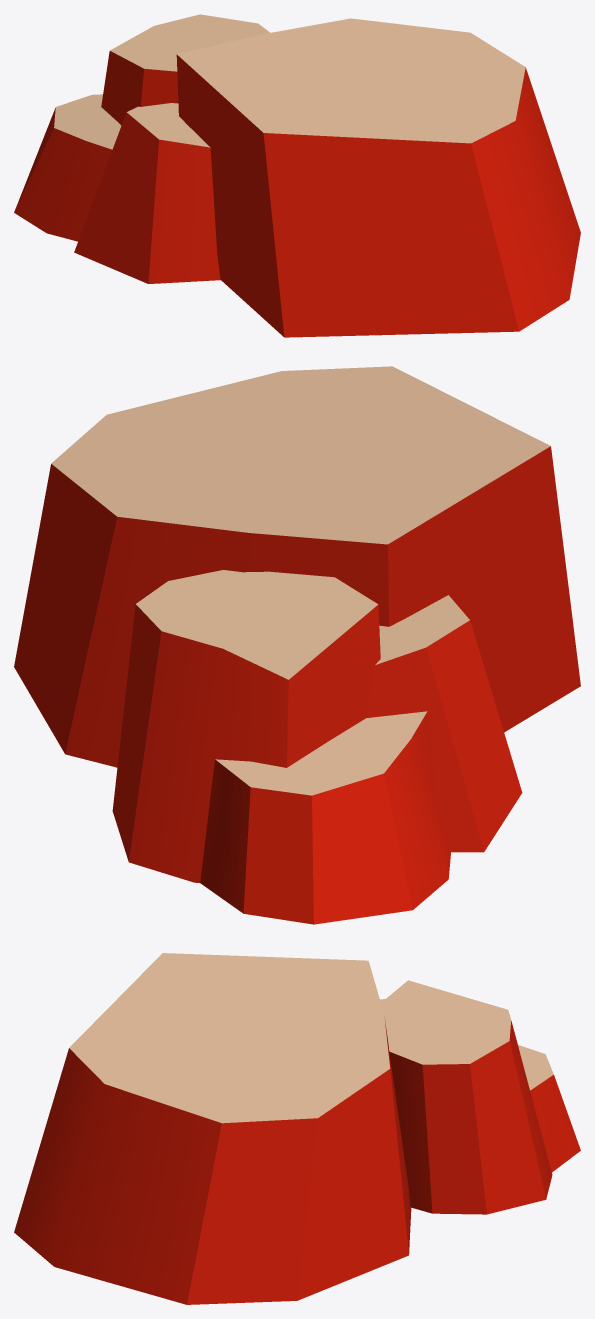
Rendered from Small_Mountain_01.fbx.
3 renders of one model, top to bottom at view 1: azimuth 30°, elevation 25°; view 2: azimuth 150°, elevation 25°; view 3: azimuth 270°, elevation 25°, orthographic. The views are drawn at different scales.
Visible parts, largest first — view 1: Small_Mountain_01; view 2: Small_Mountain_01; view 3: Small_Mountain_01.
Part boxes in pixels (left/top/right/bottom): Small_Mountain_01: left=14, top=14, right=580, bottom=337; Small_Mountain_01: left=14, top=366, right=580, bottom=924; Small_Mountain_01: left=14, top=953, right=580, bottom=1304.
Size of the model in its own units: 379 by 170 by 457.
